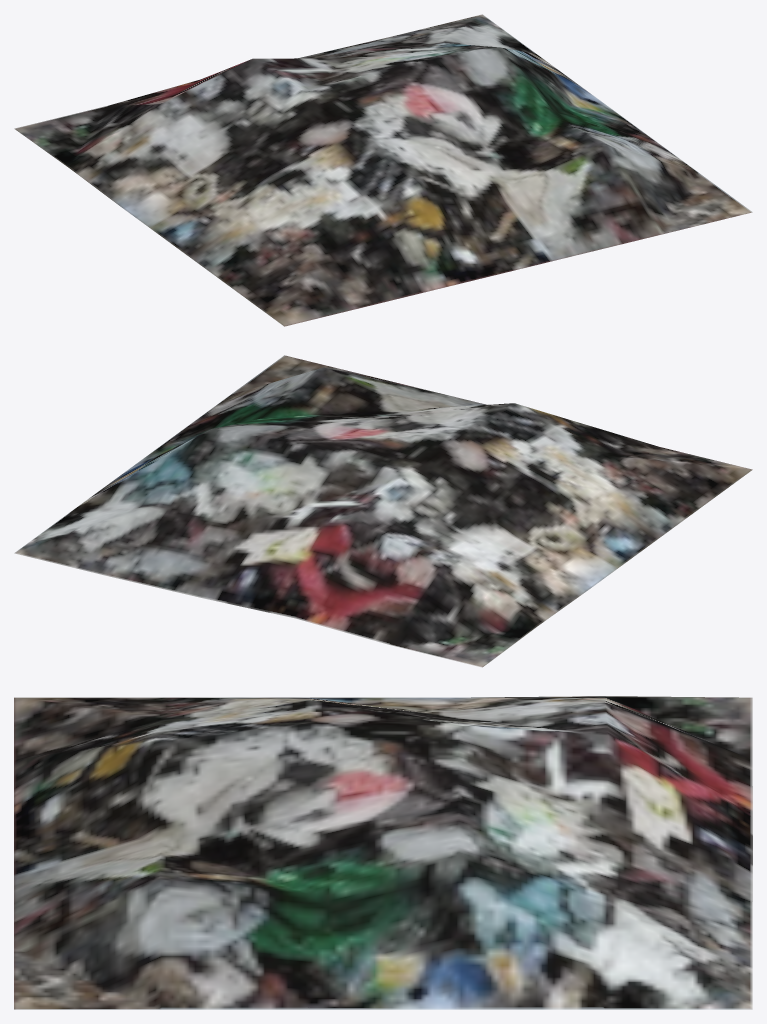
File: Trash.fbx
The picture shows the model from 3 angles, top to bottom: view 1: azimuth 30°, elevation 25°; view 2: azimuth 150°, elevation 25°; view 3: azimuth 270°, elevation 25°; orthographic projection. The views are drawn at different scales.
Visible parts, largest first — view 1: Trash.001; view 2: Trash.001; view 3: Trash.001.
Boxes of the visible parts, x1,y1,x2,y2 form: Trash.001: (14,14,752,326); Trash.001: (14,355,752,667); Trash.001: (14,696,752,1009).
Size of the model in its own units: 300 by 45.37 by 300.
1 material, 1 textured.
